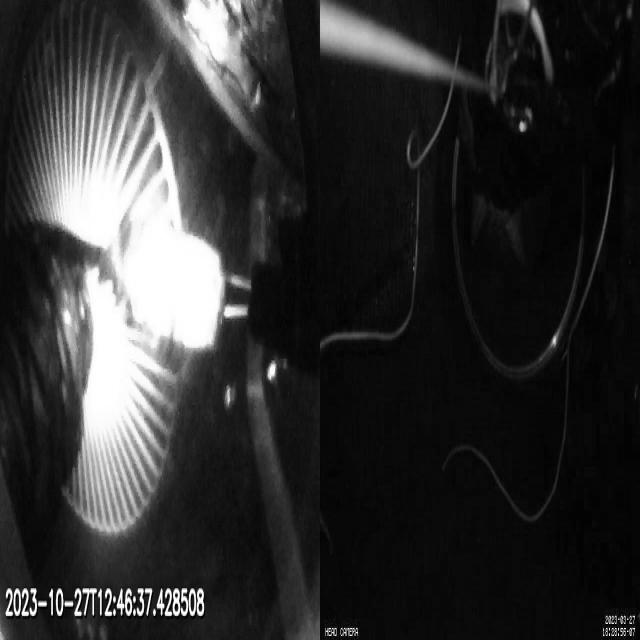head: (124, 218, 226, 349)
